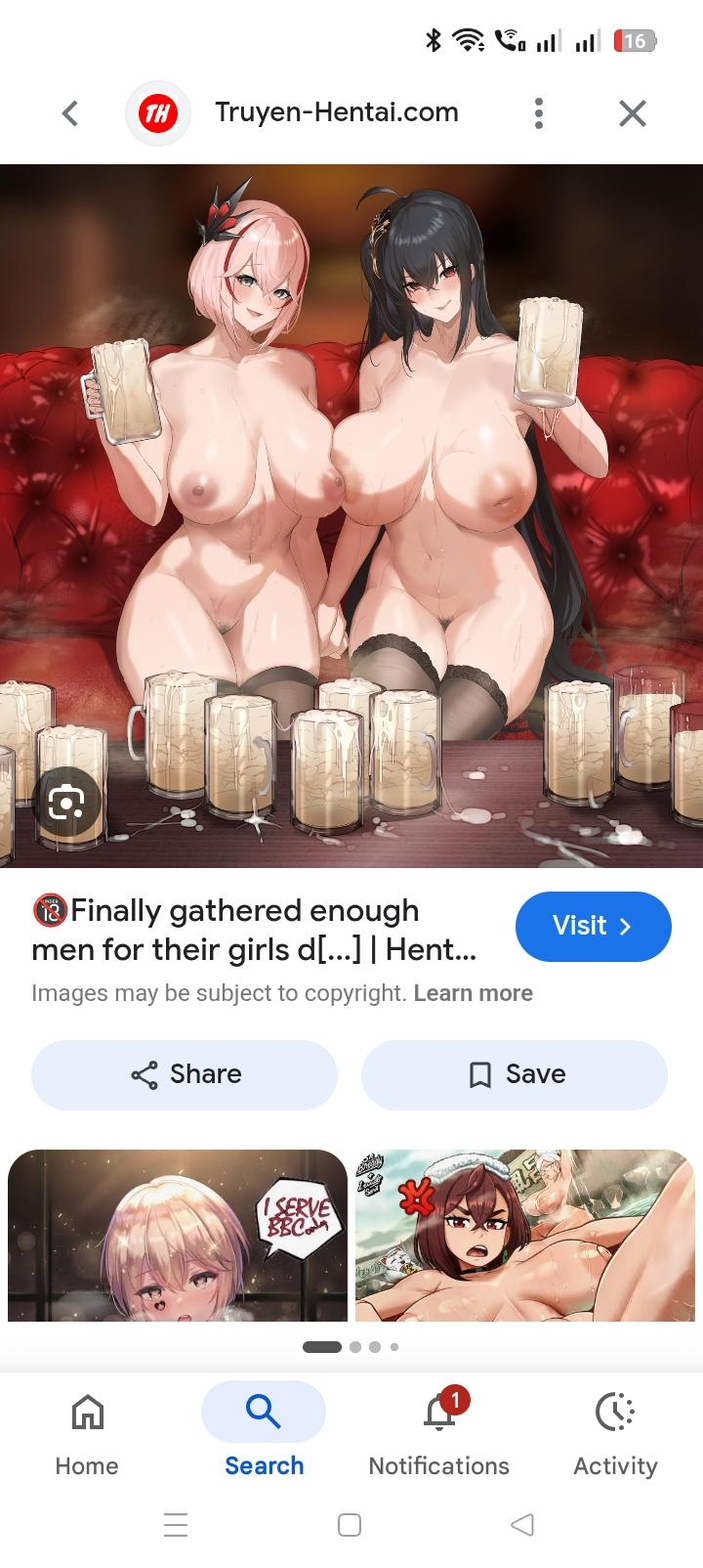cup: (127, 671, 216, 798), (204, 694, 276, 819), (35, 724, 106, 850), (291, 709, 362, 834), (614, 665, 685, 790), (544, 680, 613, 806), (370, 690, 440, 814), (80, 339, 160, 444), (514, 296, 582, 409), (318, 677, 383, 795), (0, 679, 55, 806), (670, 702, 702, 827), (0, 745, 15, 866)
